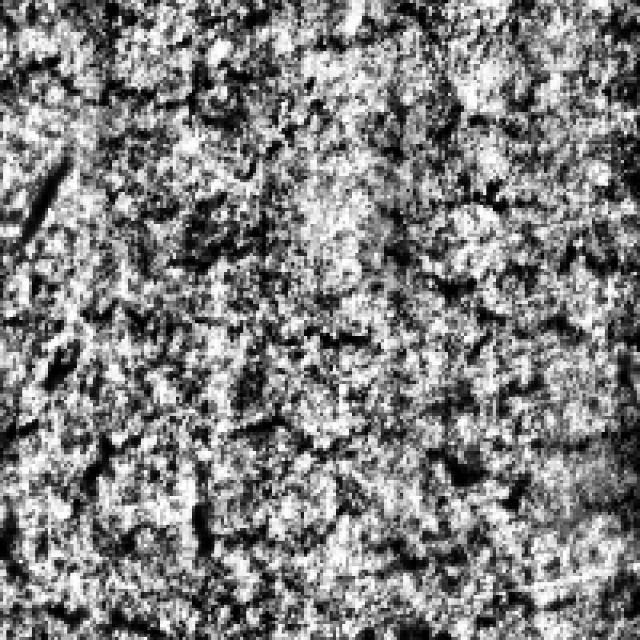Pitted_Surface: (0, 297, 381, 554), (416, 99, 637, 525), (0, 28, 426, 195)
